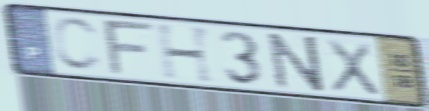3: (218, 29, 266, 87)
C: (50, 15, 106, 75)
F: (100, 19, 158, 77)
H: (153, 22, 218, 86)
N: (265, 30, 329, 93)
X: (323, 36, 384, 98)
